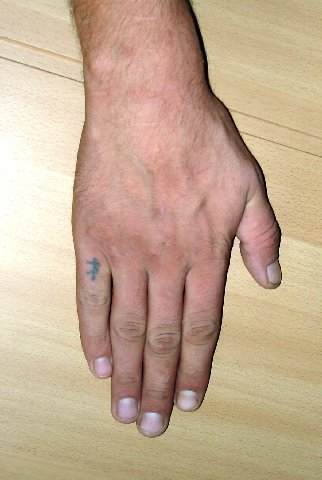tatu9_krest: (84, 251, 106, 284)
